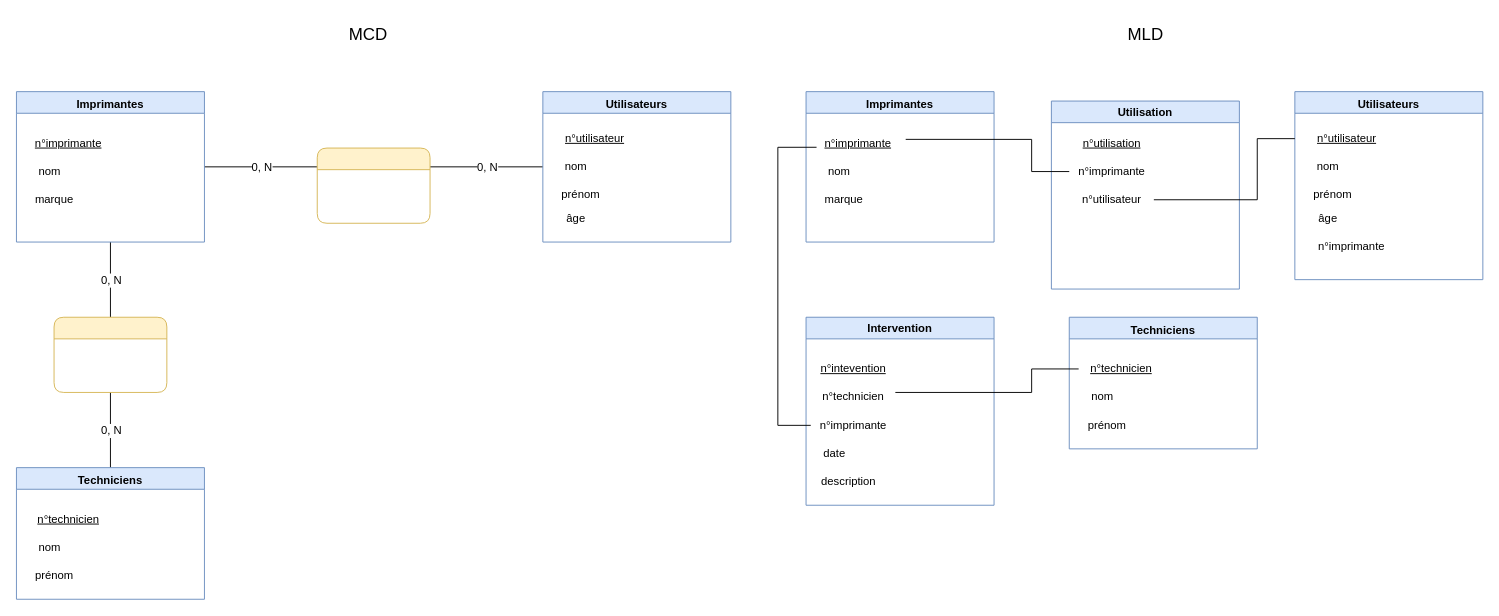
The diagram is 1499 pixels wide and 616 high, and some of its shapes have lost their labels. Here are the shapes that lost their labels. From the top down, the centre of each, then its label:
At (373,185): "est utilisée par...".
At (110,354): "est réparée par...".
